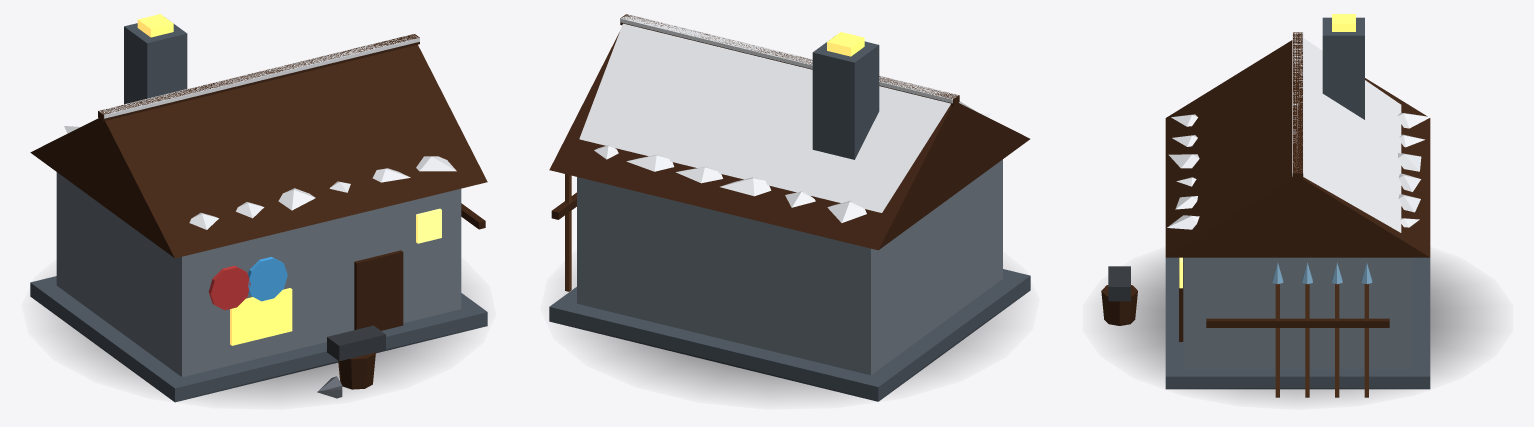
File: workshop_t1.glb
The picture shows the model from 3 angles, left to right: view 1: azimuth 30°, elevation 25°; view 2: azimuth 150°, elevation 25°; view 3: azimuth 270°, elevation 25°; orthographic projection. The views are drawn at different scales.
Parts seen in each view (by area): view 1: workshop_t1; view 2: workshop_t1; view 3: workshop_t1.
Part boxes in pixels (box(x1,y1,x2,y2)): workshop_t1: box(30, 14, 487, 402); workshop_t1: box(549, 14, 1030, 401); workshop_t1: box(1101, 14, 1486, 398).
Size of the model in its own units: 6.35 by 4.31 by 6.28.
